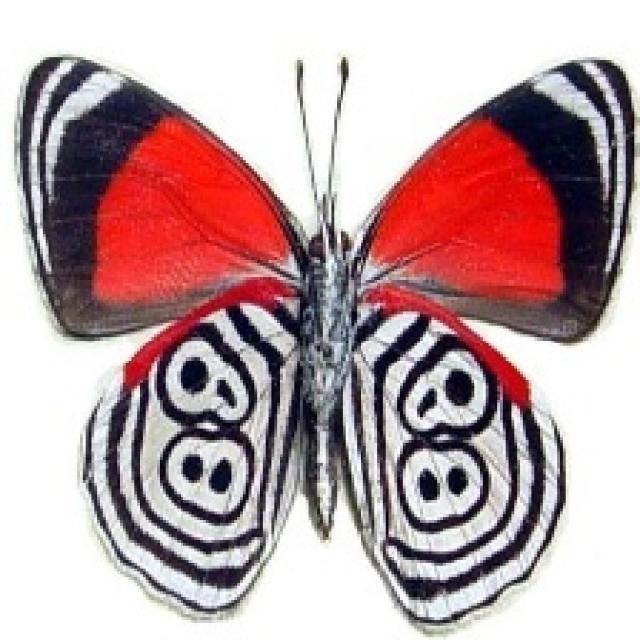butterfly: (12, 49, 637, 634)
